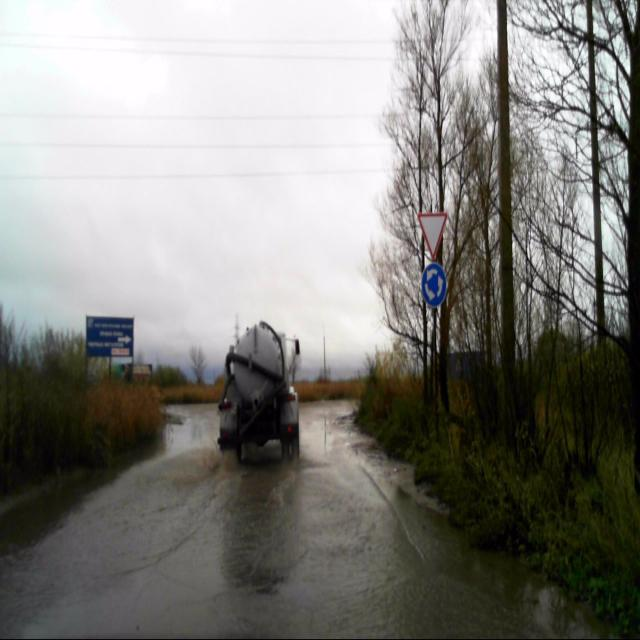road sign: (416, 212, 448, 260)
